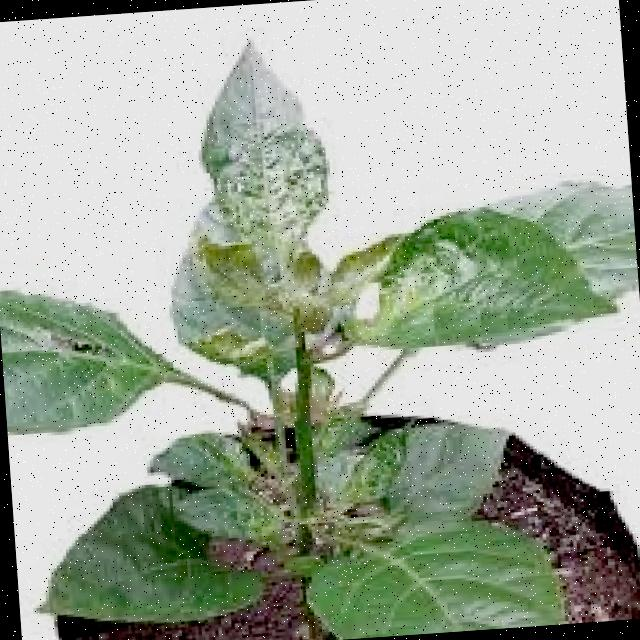leaf curl: (23, 10, 640, 448)
